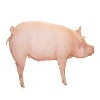heo: (5, 19, 95, 89)
